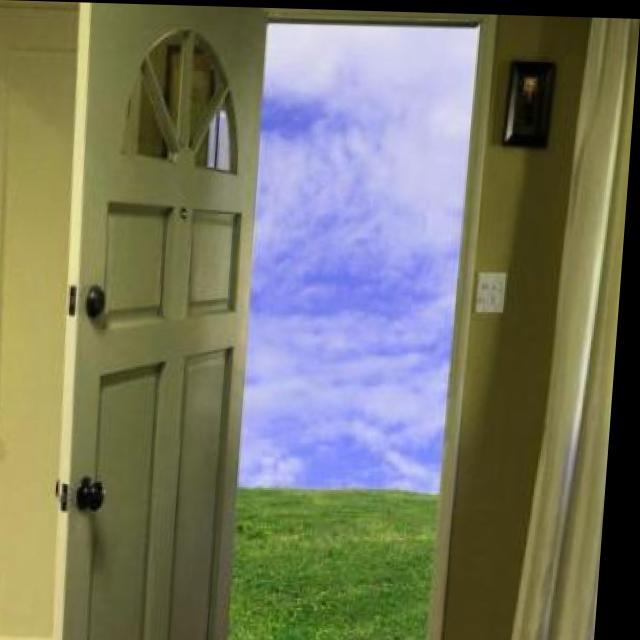door_handle: (72, 465, 122, 524)
